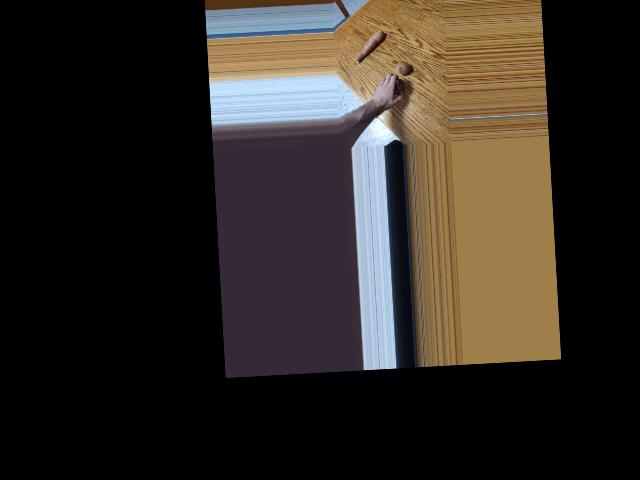onion: (392, 78, 404, 94)
